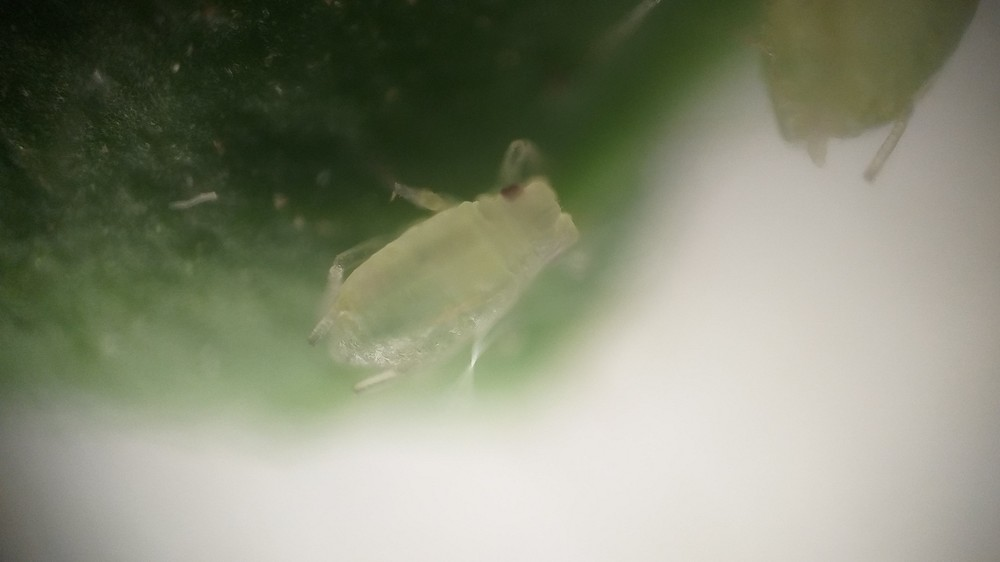Pulgon: (286, 136, 615, 413)
